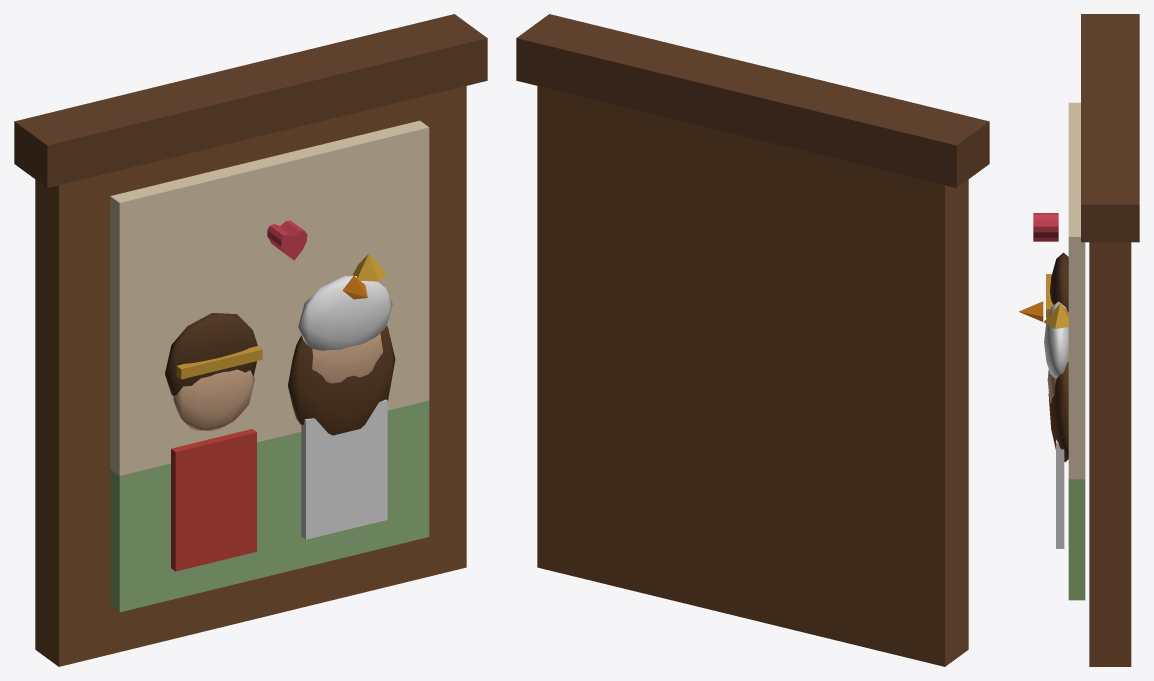
File: together_portrait.glb
The picture shows the model from 3 angles, left to right: view 1: azimuth 30°, elevation 25°; view 2: azimuth 150°, elevation 25°; view 3: azimuth 270°, elevation 25°; orthographic projection. The views are drawn at different scales.
Visible parts, largest first — view 1: furniture-together_portrait; view 2: furniture-together_portrait; view 3: furniture-together_portrait.
Boxes of the visible parts, x1,y1,x2,y2 form: furniture-together_portrait: (14, 14, 487, 666); furniture-together_portrait: (516, 14, 989, 666); furniture-together_portrait: (1019, 14, 1139, 666).
Size of the model in its own units: 0.54 by 0.62 by 0.145.
